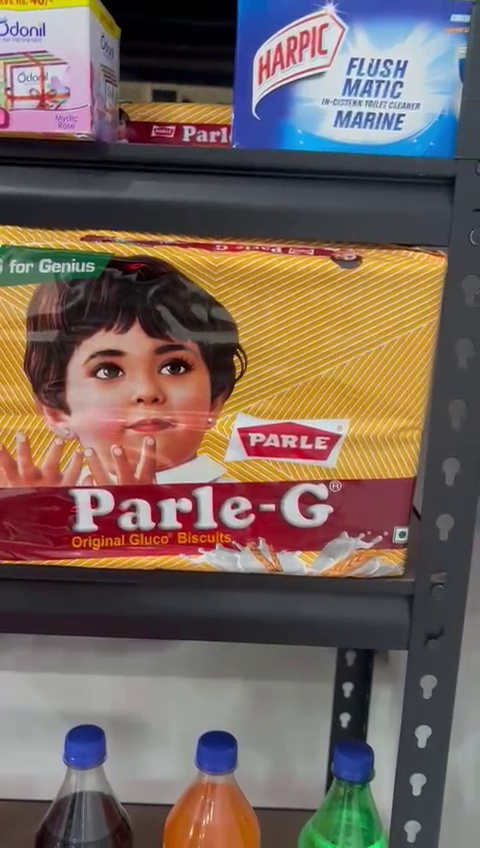Parle-G: (0, 225, 421, 580)
